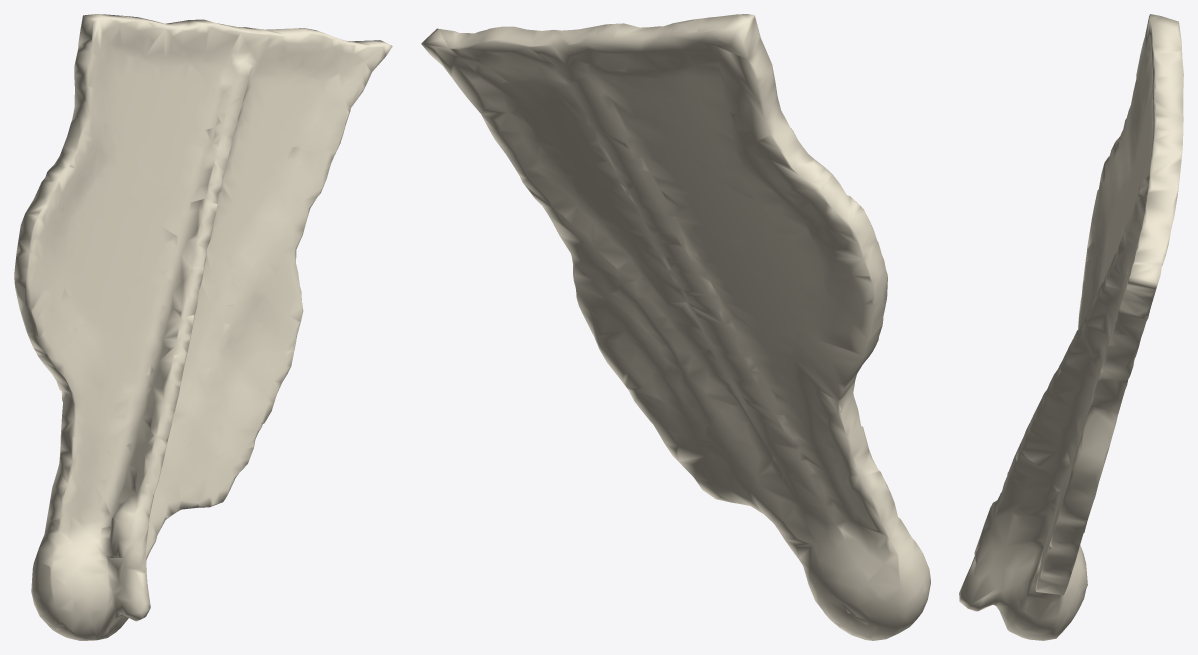
The model's file is scapula_l.glb.
3 renders of one model, left to right at view 1: azimuth 30°, elevation 25°; view 2: azimuth 150°, elevation 25°; view 3: azimuth 270°, elevation 25°, orthographic. The views are drawn at different scales.
Visible parts, largest first — view 1: geometry_0; view 2: geometry_0; view 3: geometry_0.
Part boxes in pixels (box(x1,y1,x2,y2)): geometry_0: box(14, 14, 392, 640); geometry_0: box(421, 14, 930, 640); geometry_0: box(959, 14, 1183, 640).
Size of the model in its own units: 0.5235 by 0.7242 by 0.2265.
